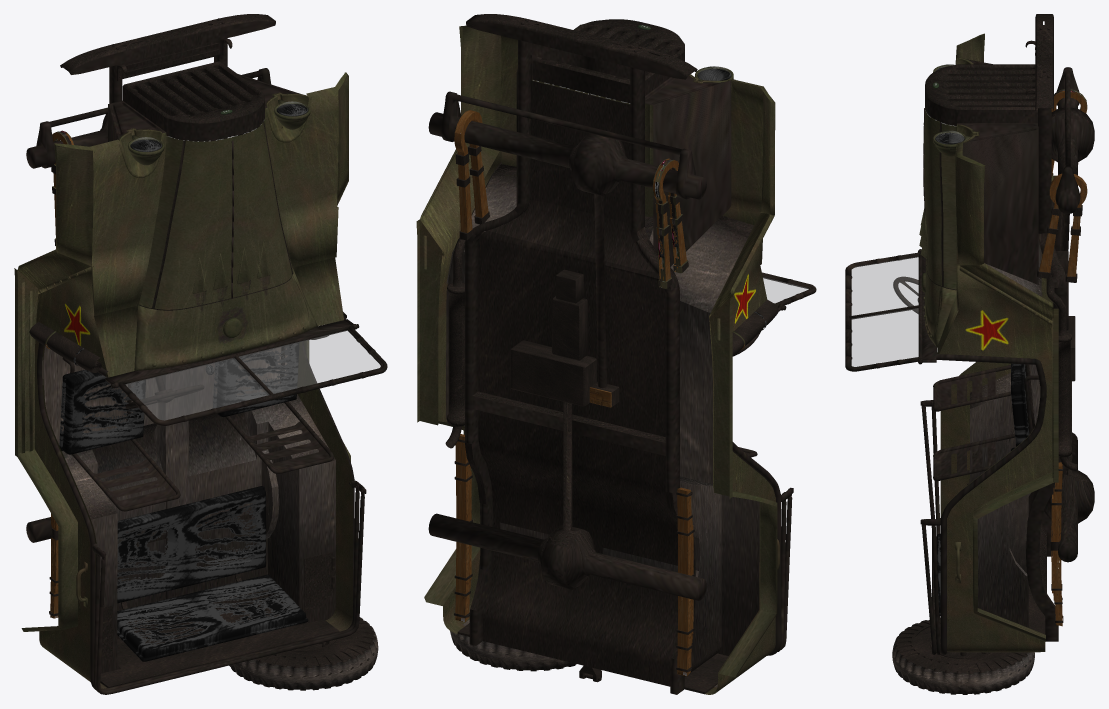
Rendered from Gaz67.obj.
The picture shows the model from 3 angles, left to right: view 1: azimuth 30°, elevation 25°; view 2: azimuth 150°, elevation 25°; view 3: azimuth 270°, elevation 25°; orthographic projection. The views are drawn at different scales.
Parts seen in each view (by area): view 1: Gaz67b.001; view 2: Gaz67b.001; view 3: Gaz67b.001.
Part boxes in pixels (x1,y1,x2,y2): Gaz67b.001: [14, 14, 387, 694]; Gaz67b.001: [416, 14, 816, 694]; Gaz67b.001: [845, 14, 1094, 694].
Bounding box in the file's own units: 1.7 × 3.35 × 1.31.
21 materials, 21 textured.
